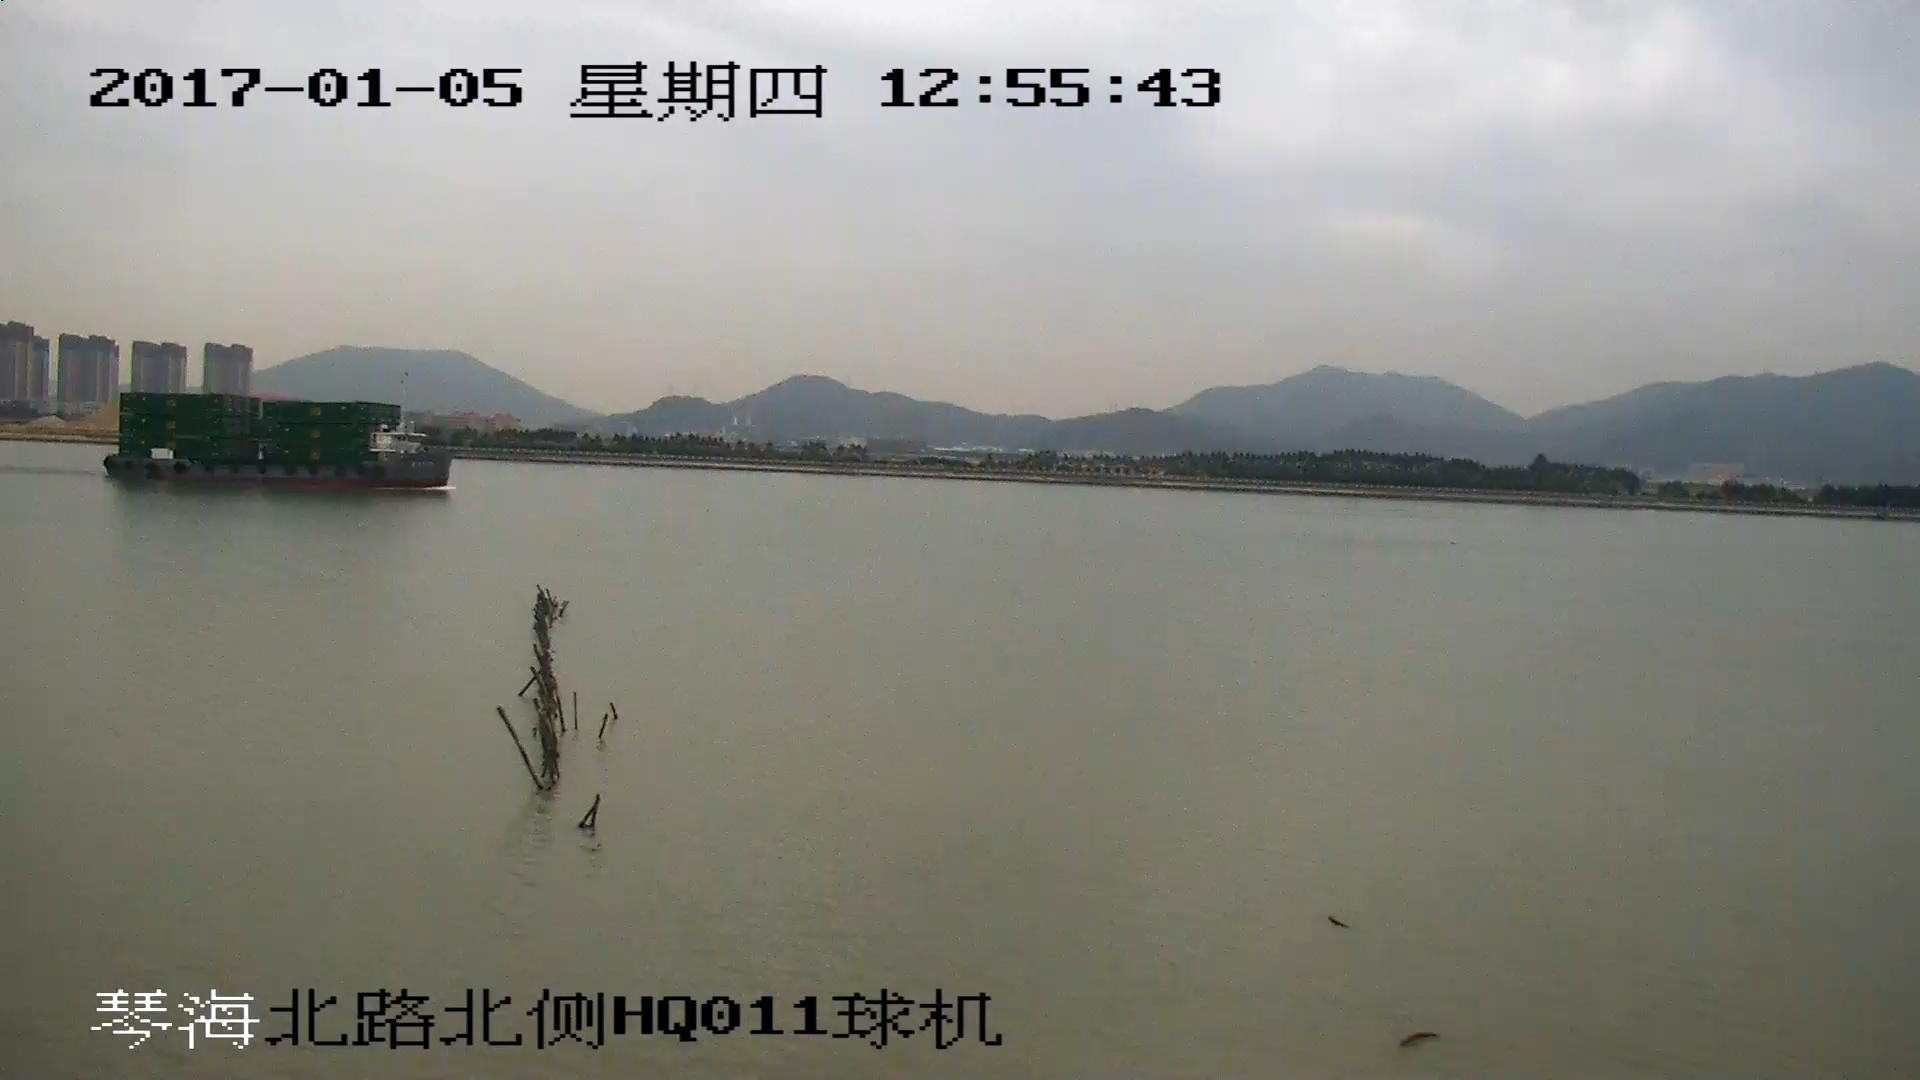container ship: (103, 390, 454, 487)
